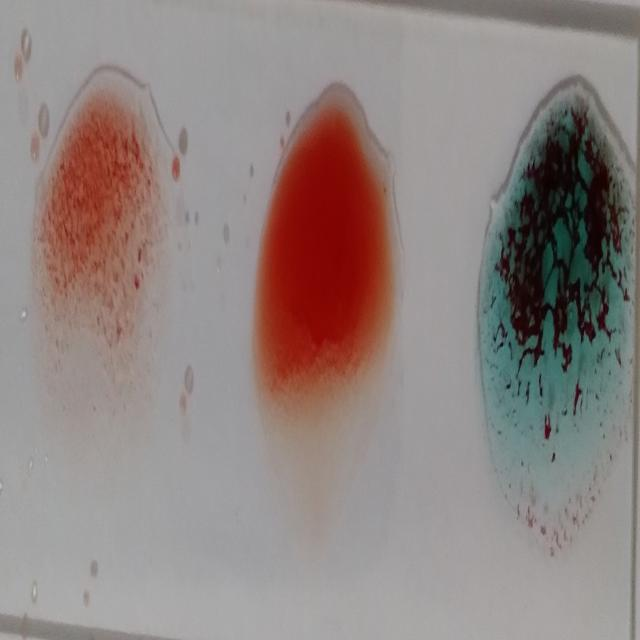A: (468, 114, 634, 551)
D: (40, 54, 162, 374)
